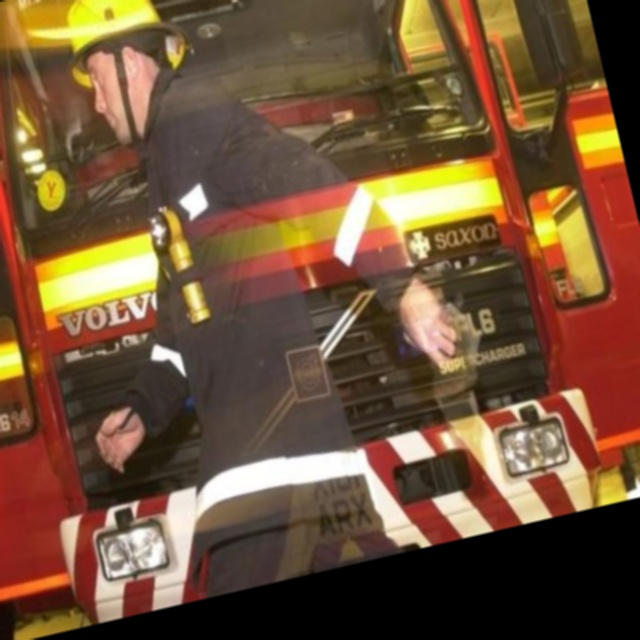Con_Casco: (55, 0, 208, 147)
